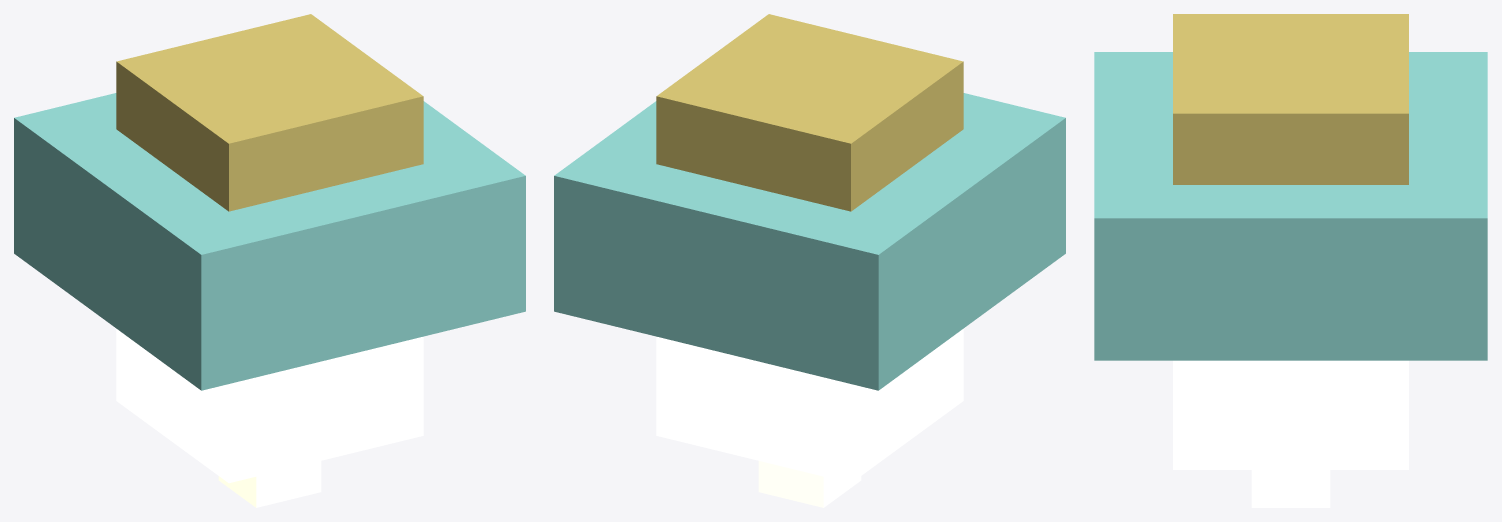
Rendered from signal_beacon.glb.
3 renders of one model, left to right at view 1: azimuth 30°, elevation 25°; view 2: azimuth 150°, elevation 25°; view 3: azimuth 270°, elevation 25°, orthographic. The views are drawn at different scales.
Visible parts, largest first — view 1: SignalBeaconMesh; view 2: SignalBeaconMesh; view 3: SignalBeaconMesh.
Part boxes in pixels (x1,y1,x2,y2): SignalBeaconMesh: [14, 14, 525, 507]; SignalBeaconMesh: [554, 14, 1065, 507]; SignalBeaconMesh: [1094, 14, 1487, 507].
Bounding box in the file's own units: 0.05 × 0.06 × 0.05.
